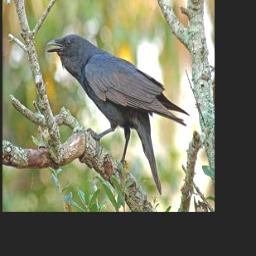Crow: (46, 33, 192, 196)
